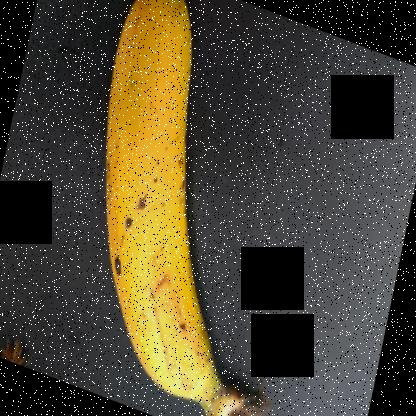ripe: (56, 1, 232, 392)
